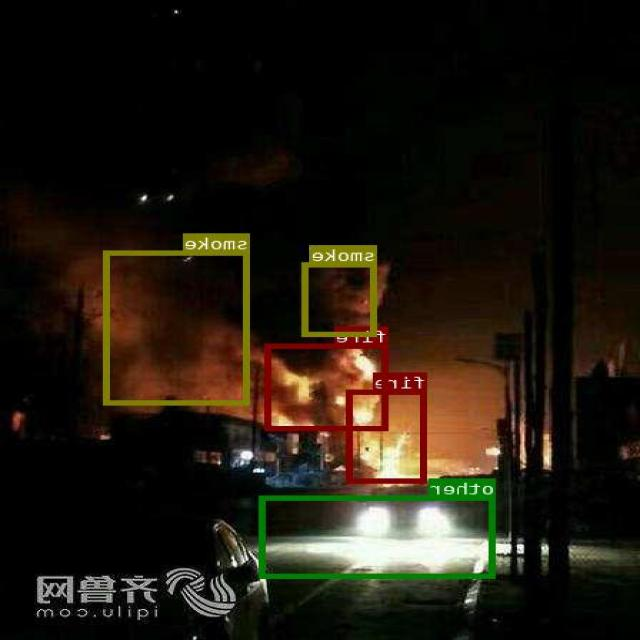fire: (267, 344, 389, 429), (348, 389, 428, 482)
other: (261, 496, 496, 578)
smoke: (104, 249, 251, 404), (303, 261, 378, 336)
